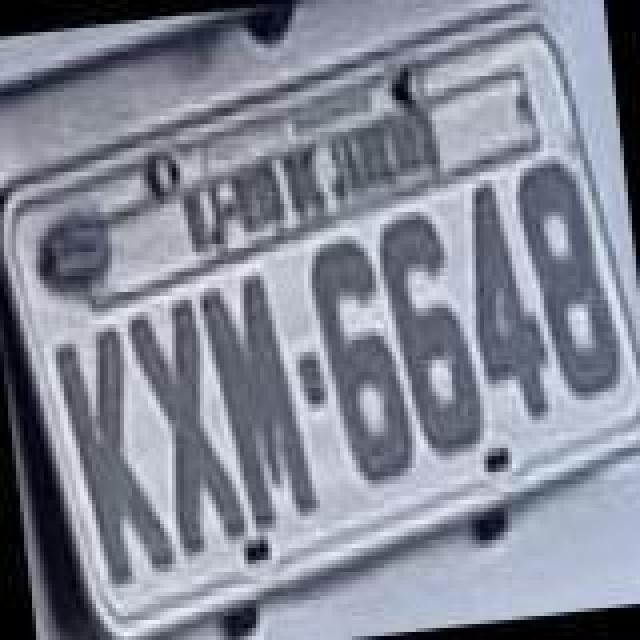4: (454, 180, 554, 428)
6: (374, 208, 490, 464), (304, 234, 416, 486)
8: (510, 156, 626, 404)
K: (48, 322, 176, 590)
M: (196, 270, 316, 538)
X: (122, 296, 246, 560)
